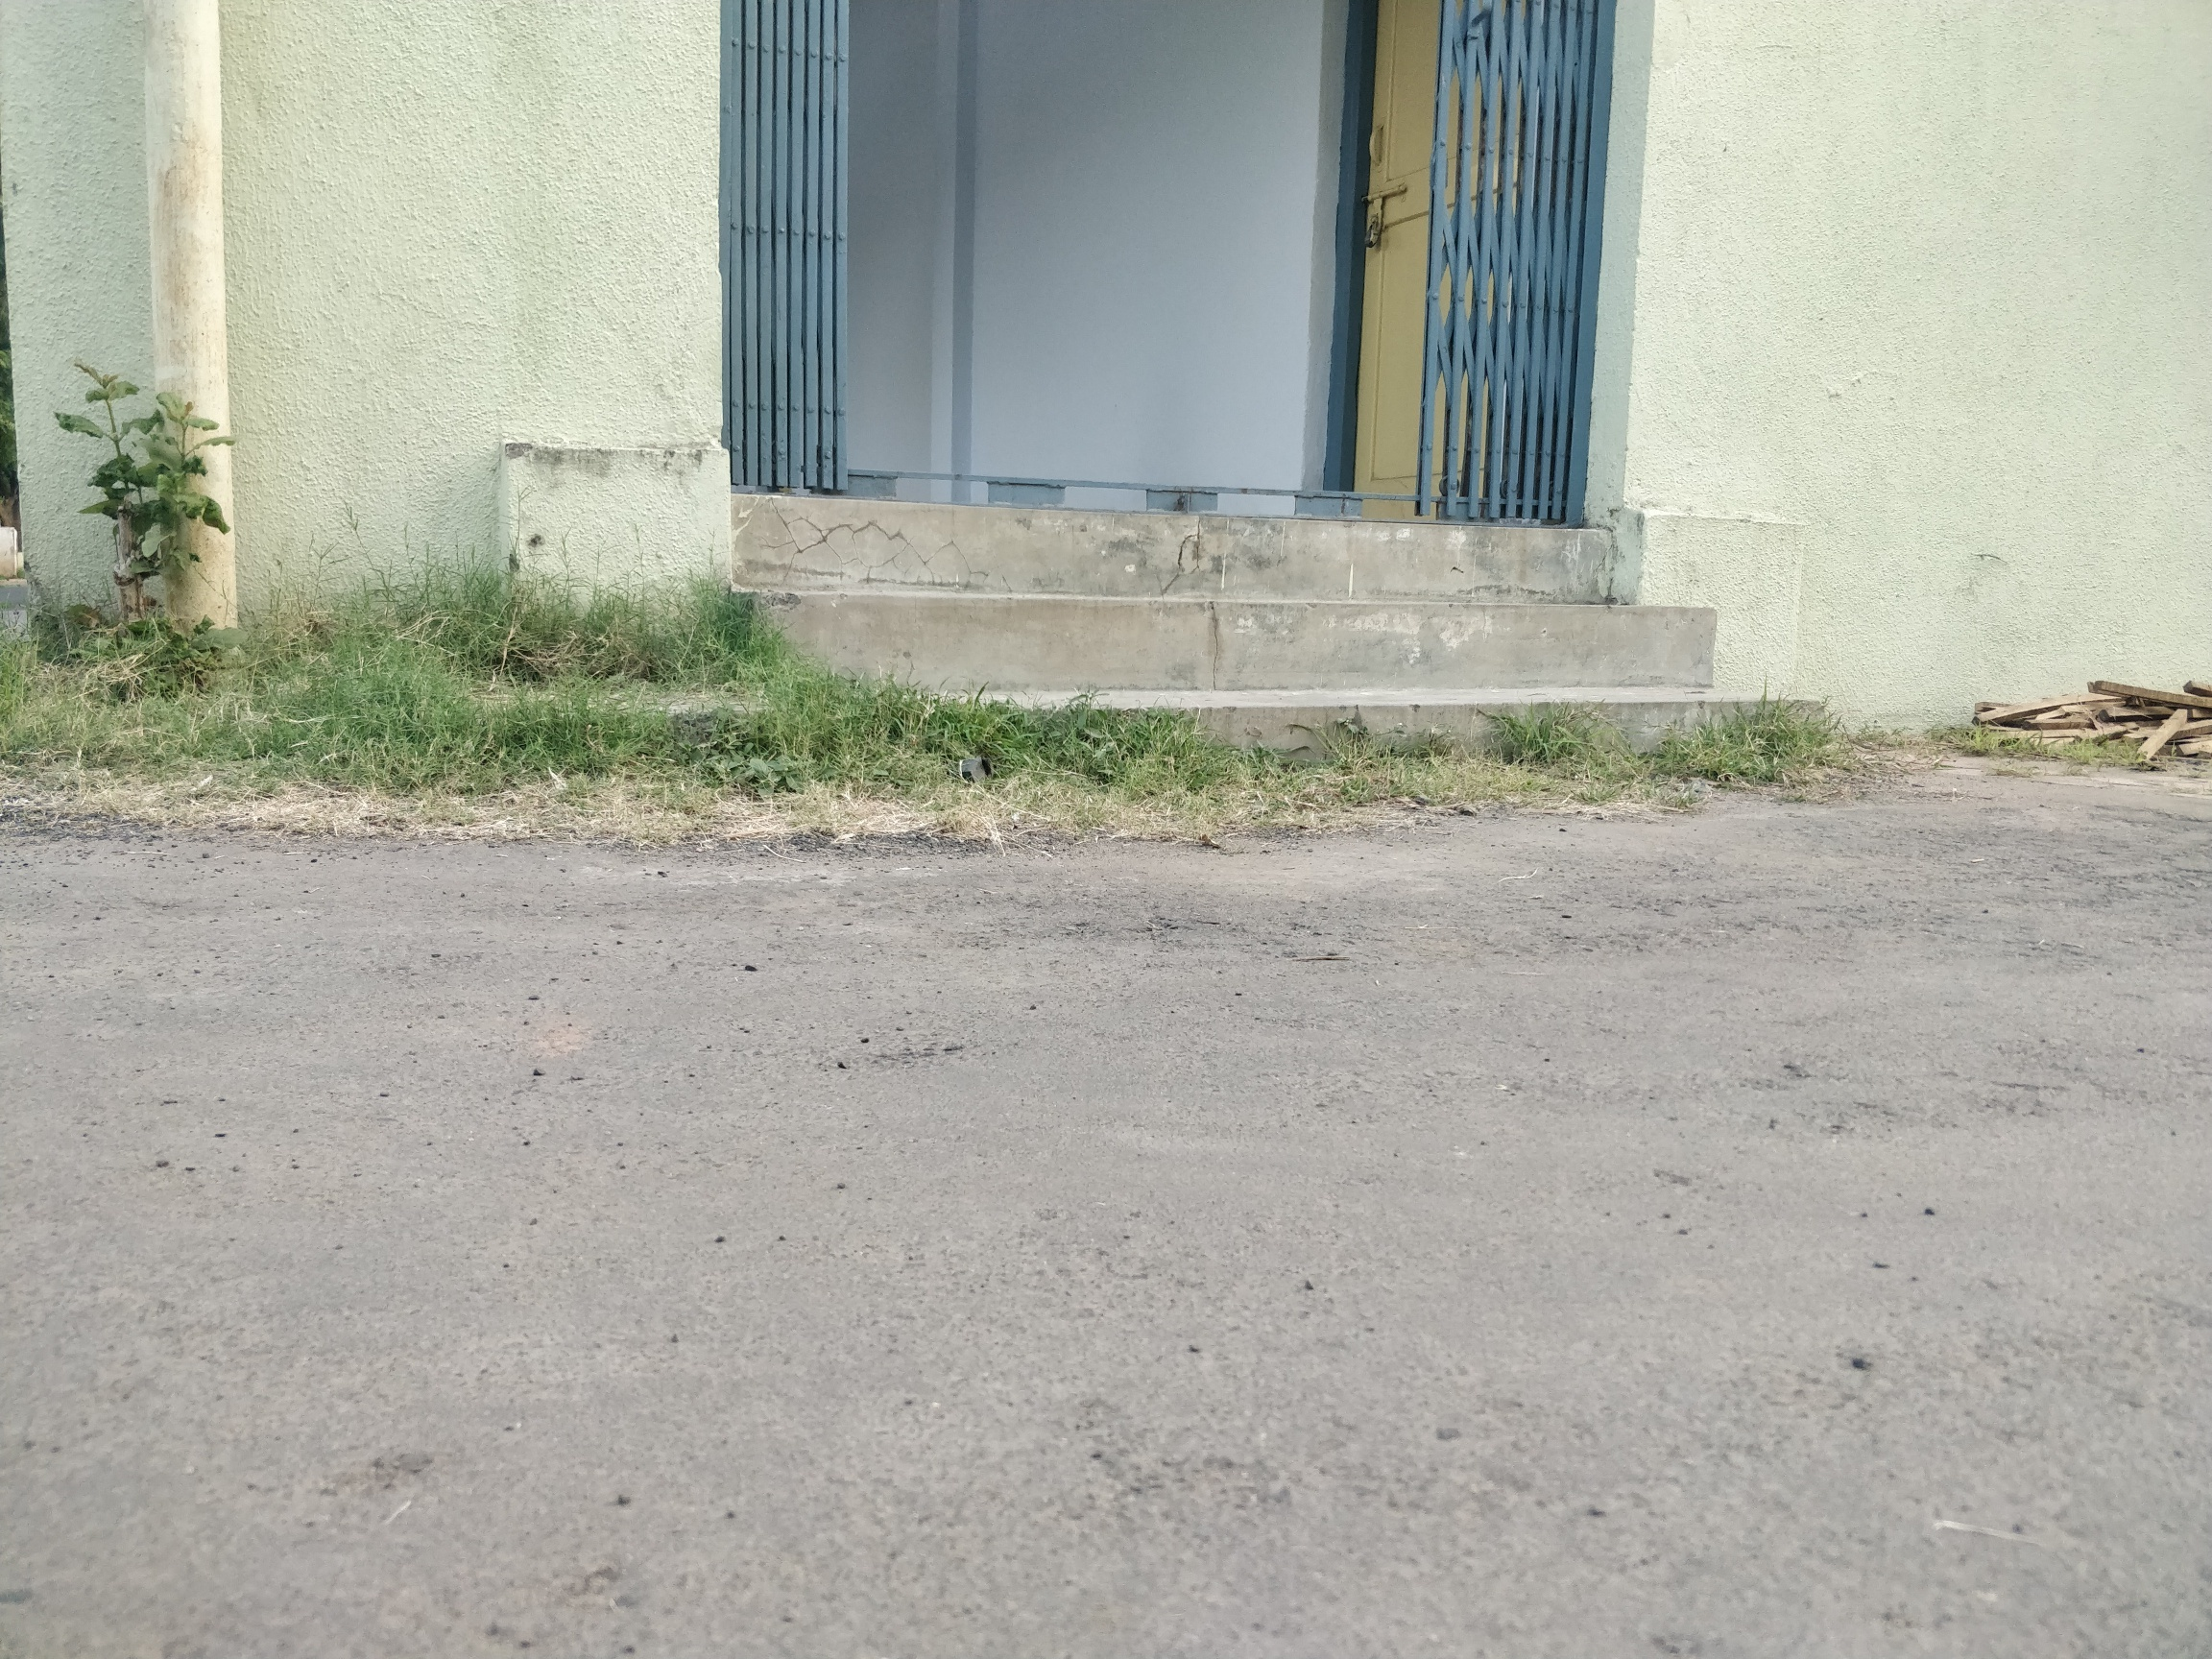stairs_up: (723, 479, 1832, 807)
